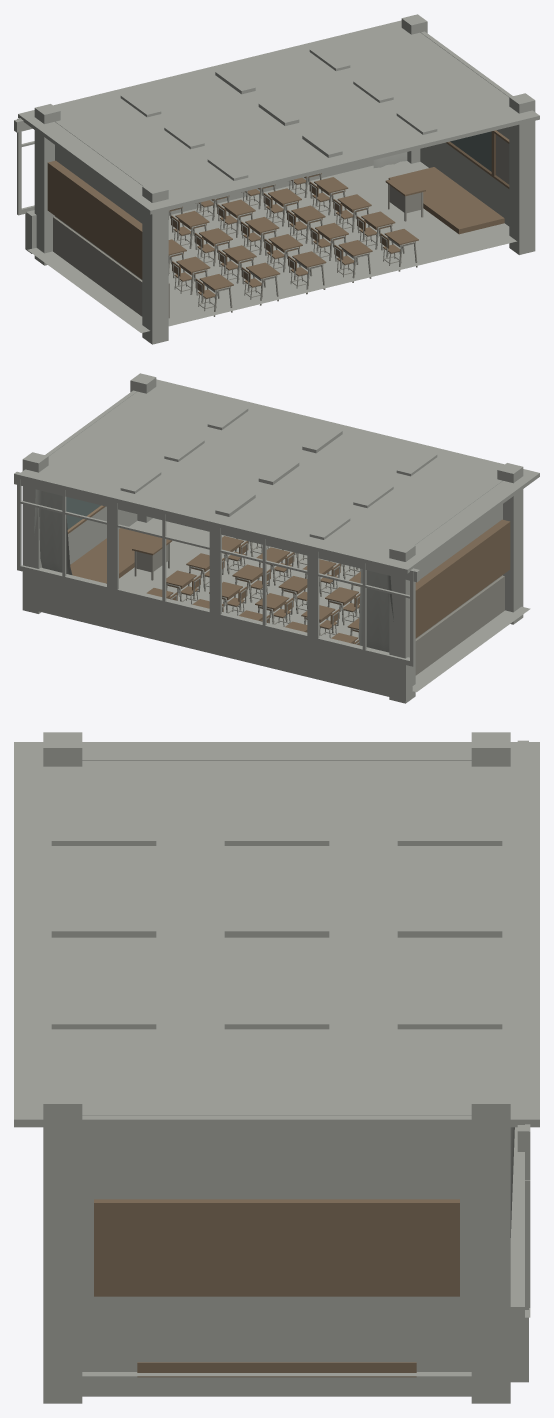
Rendered from 3d_classroom_new.fbx.
The picture shows the model from 3 angles, top to bottom: view 1: azimuth 30°, elevation 25°; view 2: azimuth 150°, elevation 25°; view 3: azimuth 270°, elevation 25°; orthographic projection. The views are drawn at different scales.
Visible parts, largest first — view 1: pPlane73, pPlane4, pPlane70, pCube164 (×5), pCube163 (×5), pPlane74, pPlane75, pPlane71, pPlane72, pCube161 (×4), pCube162 (×4), pPlane38 (+17 smaller); view 2: pPlane73, pPlane2, pPlane41, pPlane4, pPlane70, pPlane71, pPlane43, pCube161 (×4), pCube162 (×4), pPlane74, pPlane69, pPlane86 (+19 smaller); view 3: pPlane73, pPlane38, pPlane39, pPlane75, pPlane76, pPlane2, pPlane72, pPlane77, pPlane78, pPlane79, pPlane83, pPlane84 (+8 smaller).
Part boxes in pixels (x1,y1,x2,y2): pPlane73: (18,20,539,214); pPlane4: (27,161,516,332); pPlane70: (47,160,142,279); pCube164 (×5): (195,229,418,316); pCube163 (×5): (172,211,395,294); pPlane74: (142,183,168,344); pPlane75: (509,93,535,254); pPlane71: (53,217,169,318); pPlane72: (388,167,504,234); pCube161 (×4): (171,177,348,248); pCube162 (×4): (194,194,371,266); pPlane38: (420,32,509,226); pPlane73: (18,379,539,573); pPlane2: (25,567,412,700); pPlane41: (17,473,414,666); pPlane4: (119,518,530,692); pPlane70: (415,519,510,638); pPlane71: (415,576,504,675); pPlane43: (14,471,419,582); pCube161 (×4): (166,570,339,638); pCube162 (×4): (186,553,360,625); pPlane74: (497,463,523,624); pPlane69: (389,542,415,703); pPlane86: (358,569,393,652); pPlane73: (14,742,539,1127); pPlane38: (82,1115,471,1396); pPlane39: (94,1199,459,1296); pPlane75: (43,1088,82,1403); pPlane76: (471,1088,510,1403); pPlane2: (510,1127,528,1382); pPlane72: (137,1362,416,1377); pPlane77: (224,917,329,937); pPlane78: (397,917,502,937); pPlane79: (51,917,156,937); pPlane83: (397,1010,502,1029); pPlane84: (224,1010,329,1029).
Bounding box in the file's own units: 14.82 × 5.3 × 8.43.
